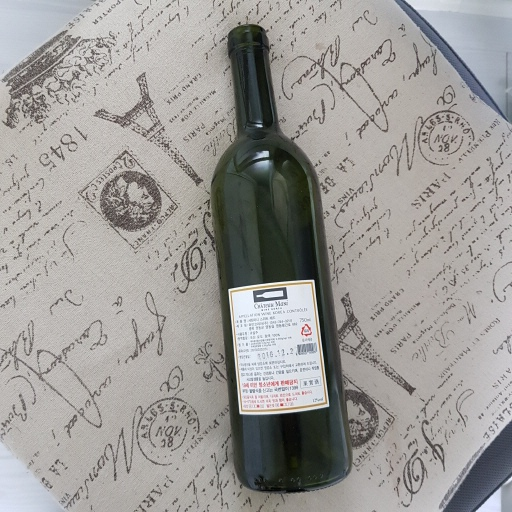Glass_2: (210, 23, 356, 496)
